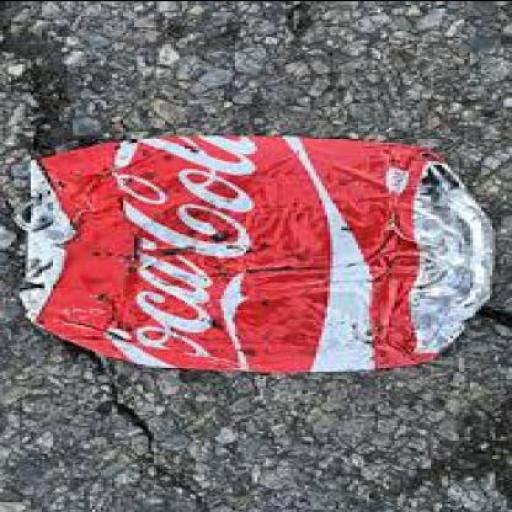metal: (8, 134, 493, 376)
